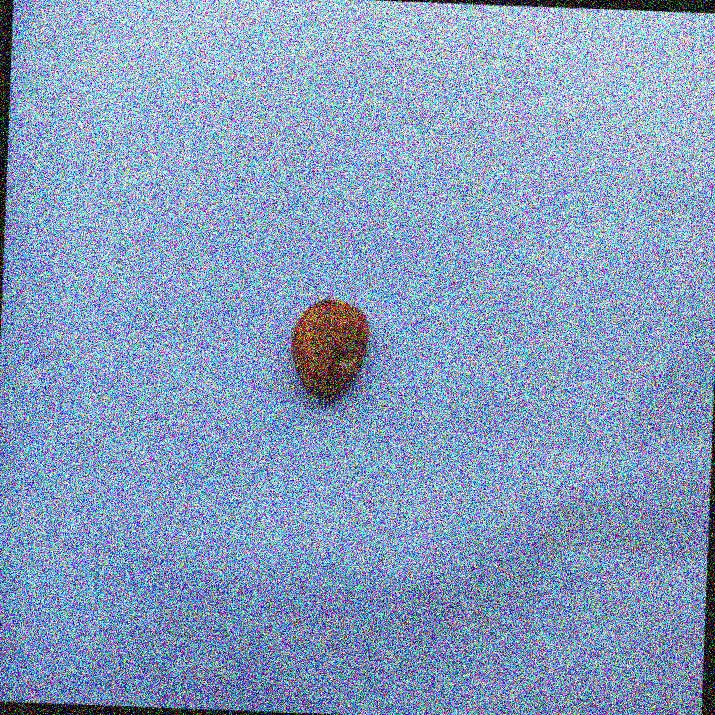grade3: (288, 293, 376, 406)
